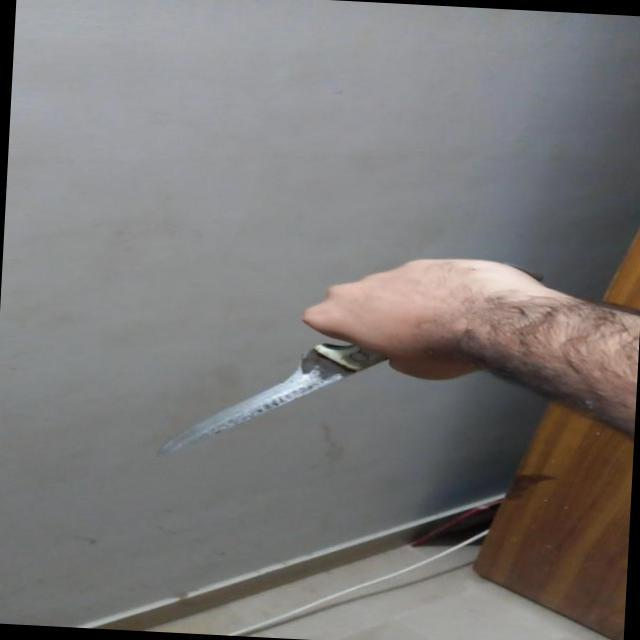Knife: (162, 334, 428, 480)
